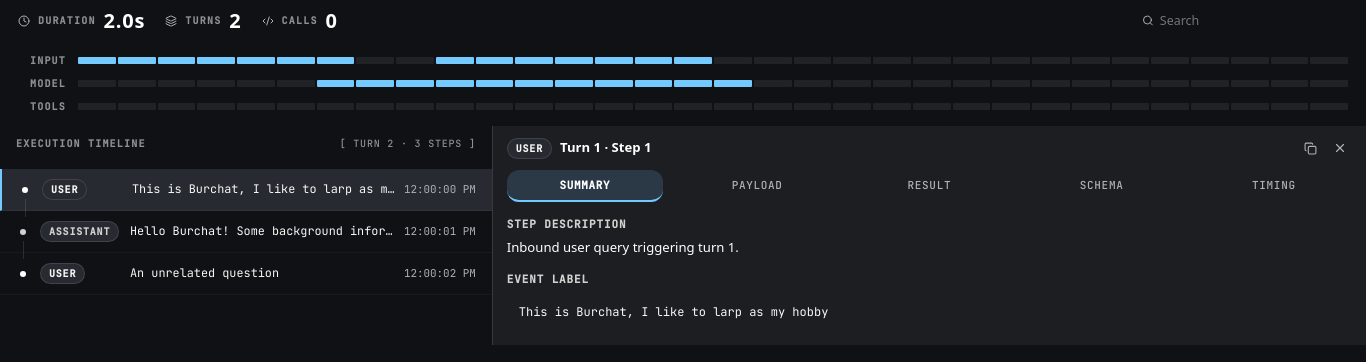
it: Trajectory keyword search › requires all terms within the same event
The width and height of the screenshot is (1366, 362).
In the field with placeholder "Search": (1247, 20) top-left (1160, 12), bottom-right (1334, 29), type "burchat unrelated"
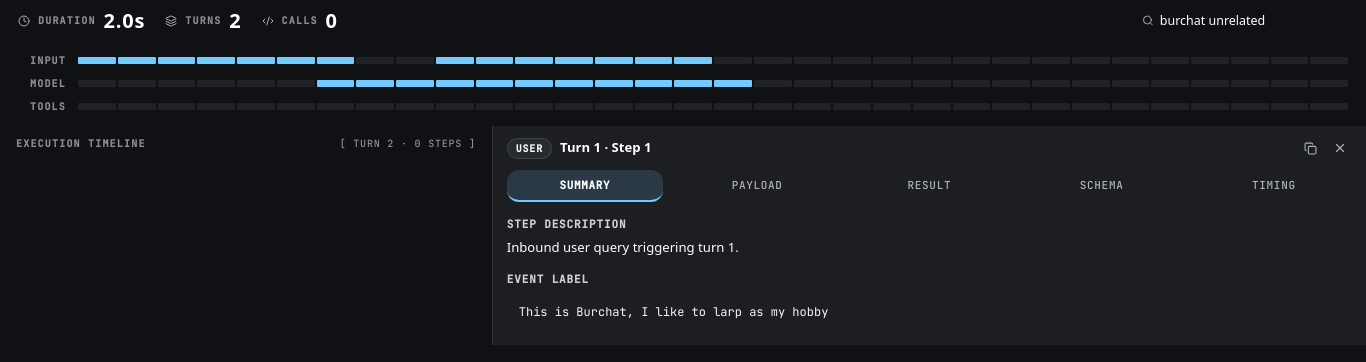
Expected: no elements with class "ledger-event-row" are shown
